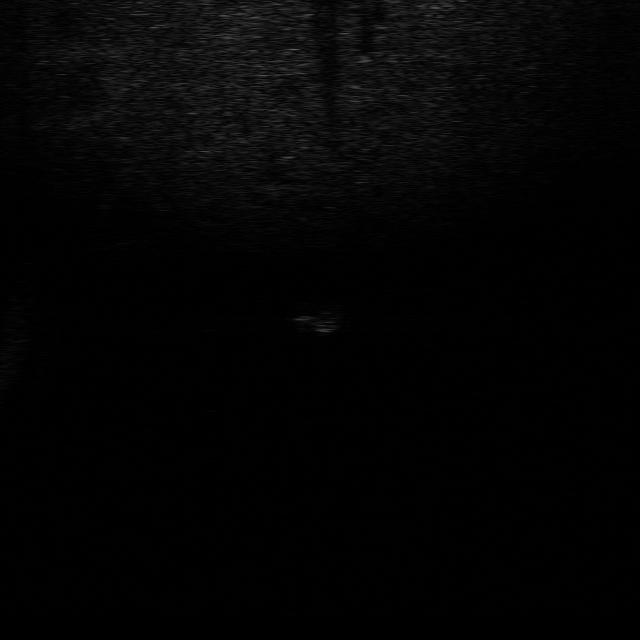human body: (286, 302, 350, 334)
